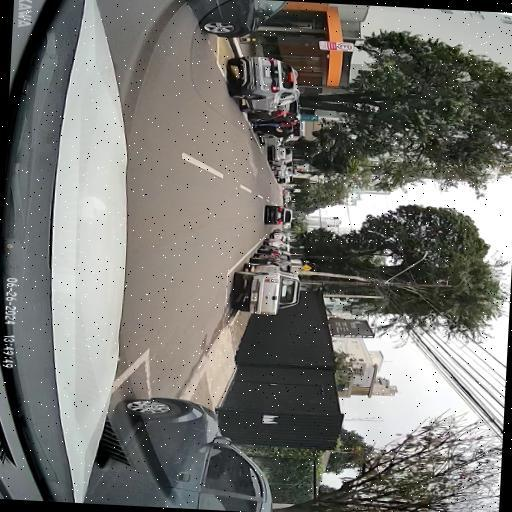A-14: (300, 264, 310, 272)
R-6b: (336, 44, 350, 50)
